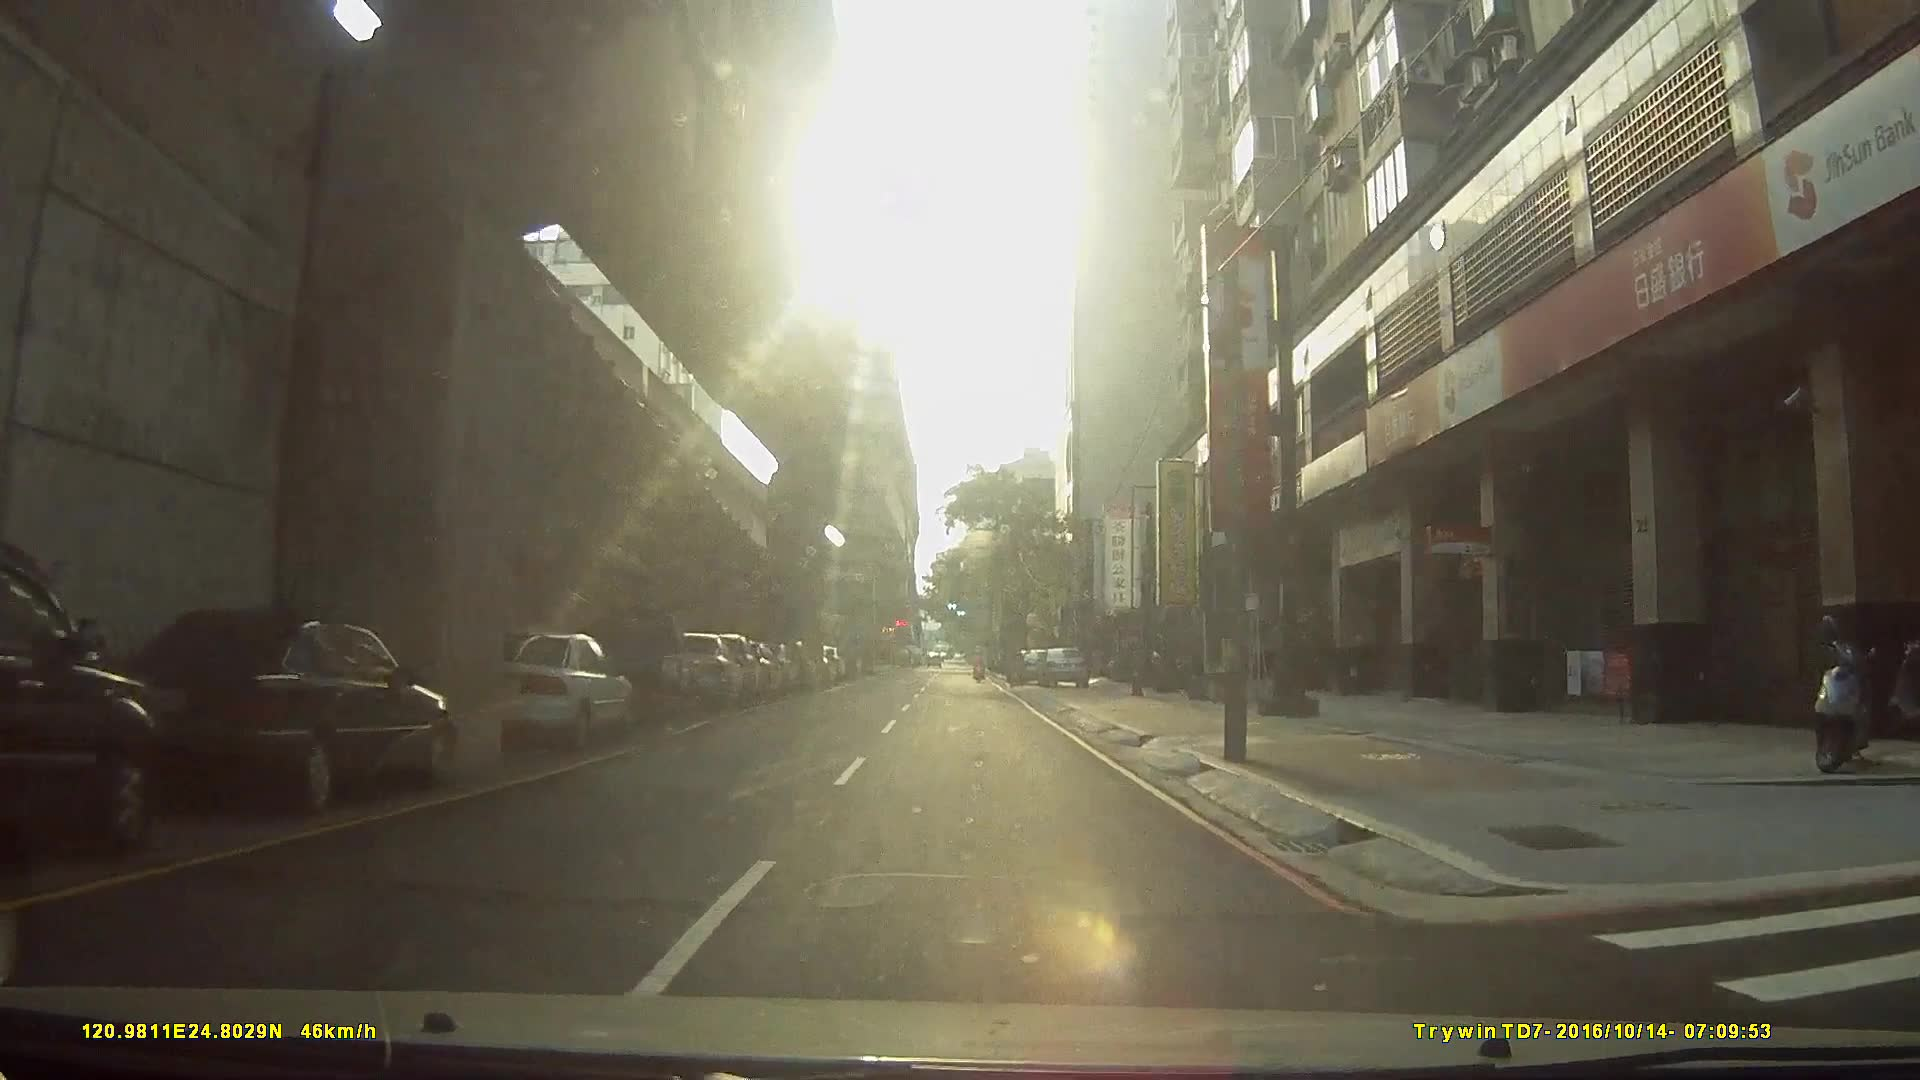vehicle: (83, 603, 458, 816), (0, 537, 160, 858), (468, 622, 636, 748), (556, 609, 694, 723), (659, 620, 794, 670), (1034, 642, 1092, 687)
